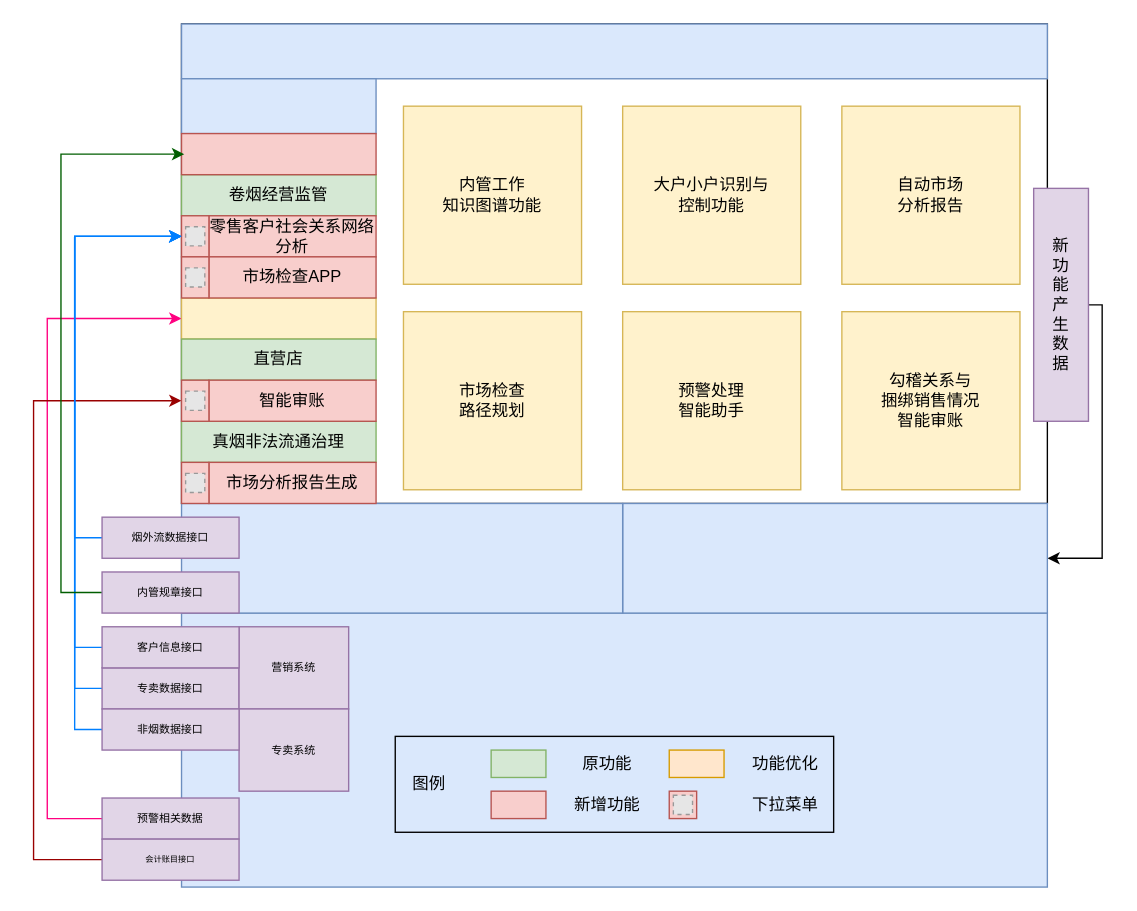
Some shapes in this 1137 by 911 pixel diagram are drawn without their labels. Grey dashed boxes stand in for pictures. Here are the shapes that lost their labels. From the top down, the box of each, then its label:
(180, 23, 1047, 79): 原内管系统界面
(180, 77, 376, 134): 导航栏
(180, 132, 376, 175): 内管工作知识图谱
(180, 297, 376, 339): 预警处理智能助手
(180, 502, 623, 613): 内管平台
(621, 502, 1047, 613): 内管平台自有数据库
(180, 612, 1047, 887): 广东省高性能数据中心
